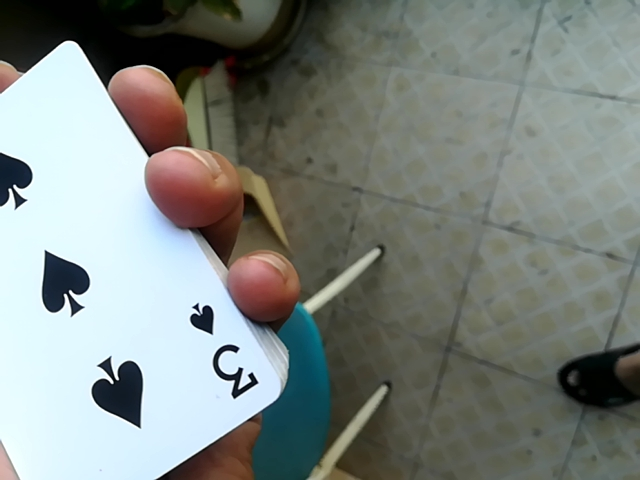ht 3: (0, 39, 271, 480)
